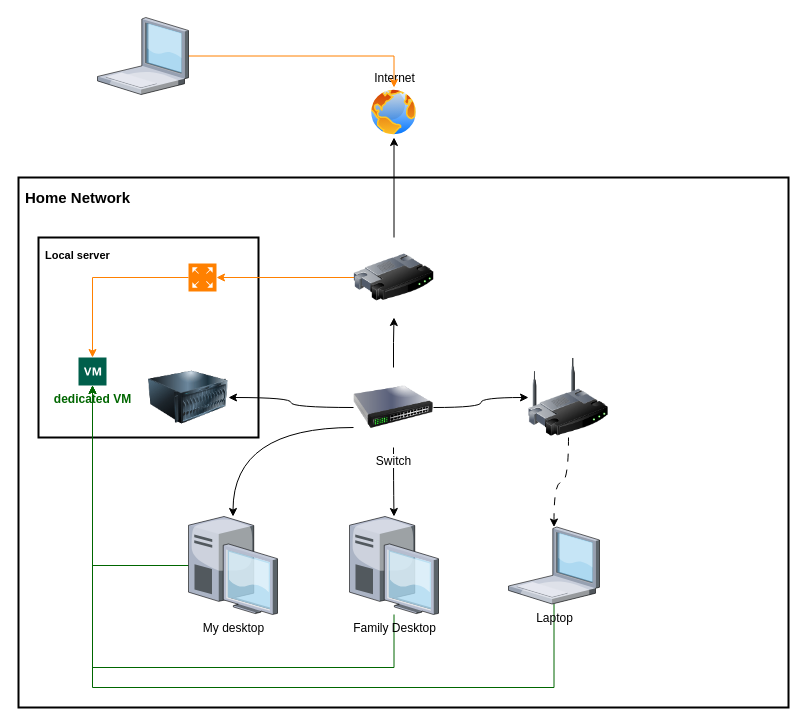
Image size: 806x725. Some labels were removed from this diagram. Here are the shapes that lost their labels. From the top down, the centre of each, then its label:
pixel 142 55: Laptop outside network
pixel 202 277: Proxy
pixel 394 277: Router / ONT
pixel 568 397: Wifi access point
